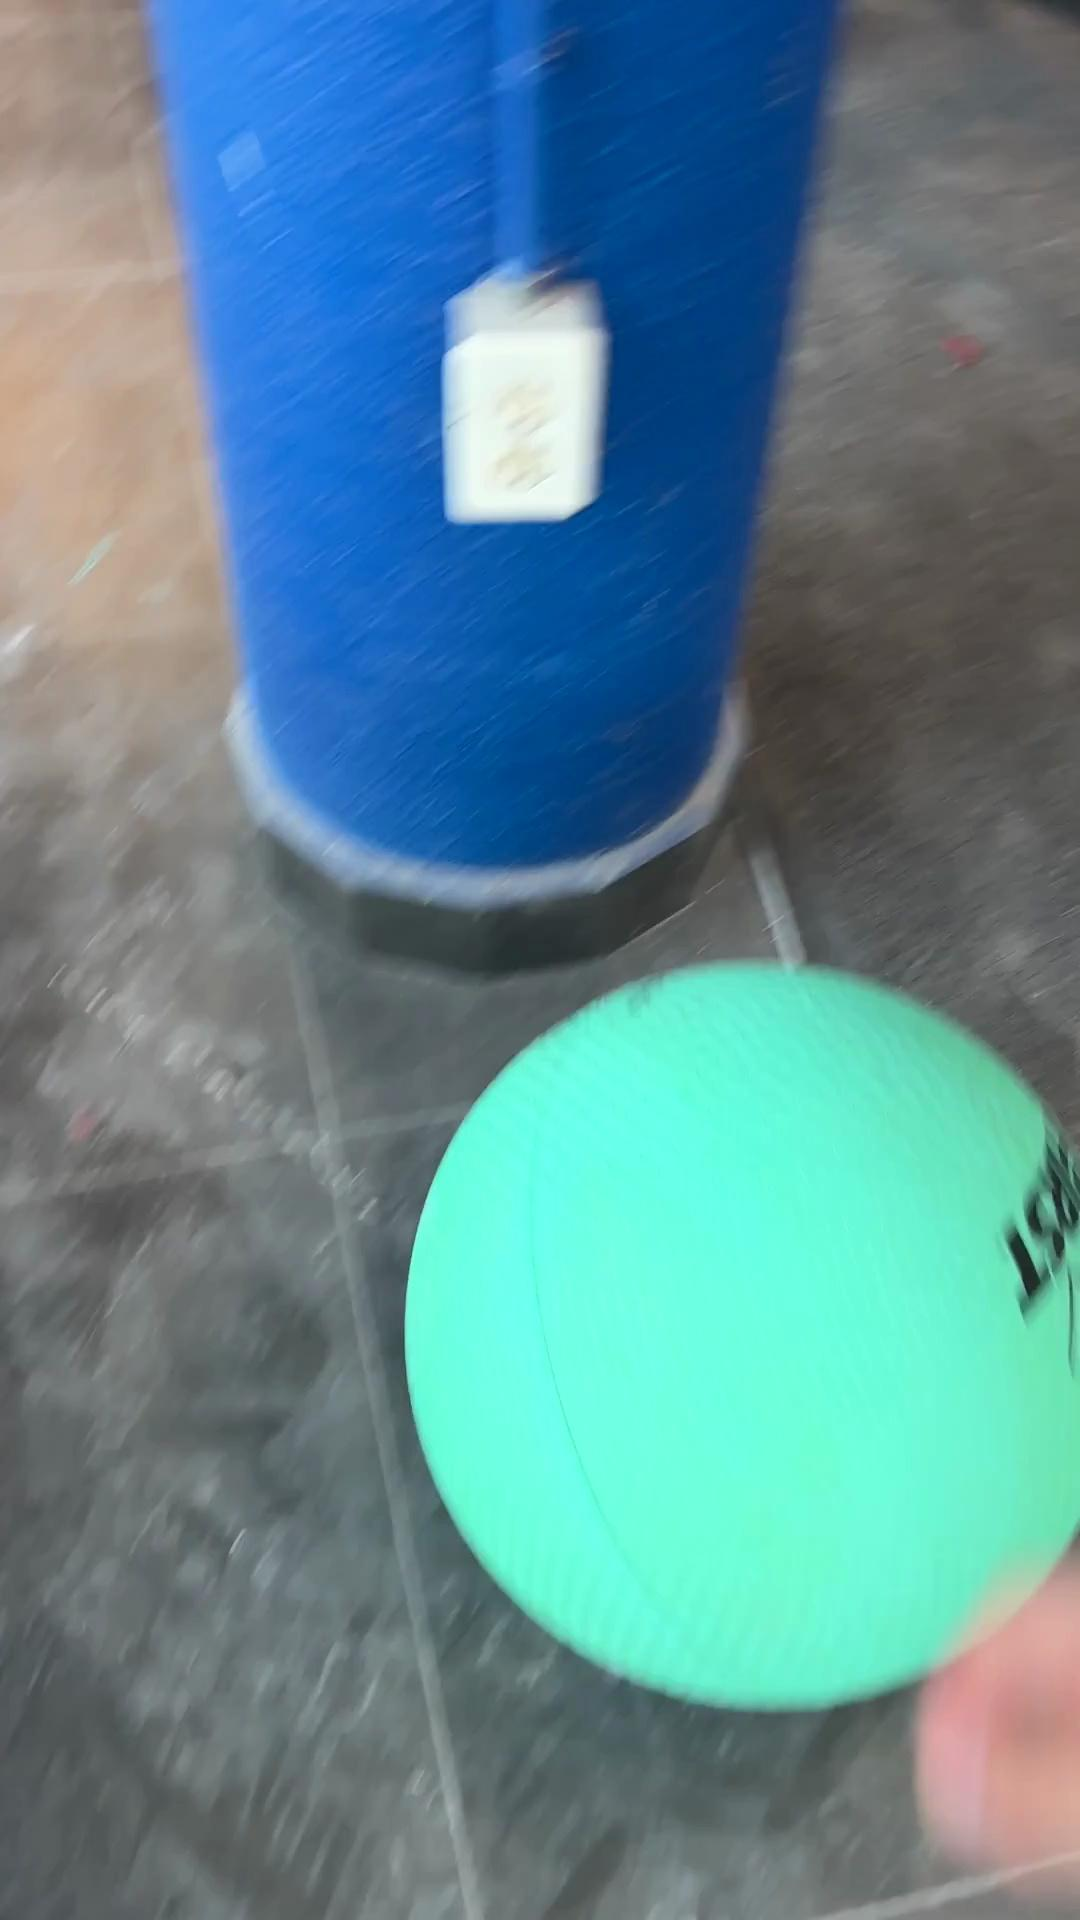ALGAE: (400, 956, 1077, 1714)
